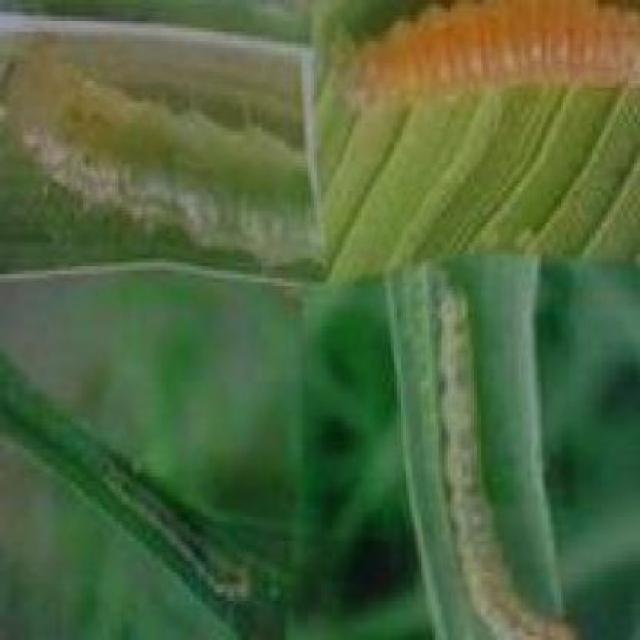leaf-folder: (11, 40, 320, 277), (425, 278, 583, 640), (355, 0, 640, 128), (103, 435, 279, 614)
